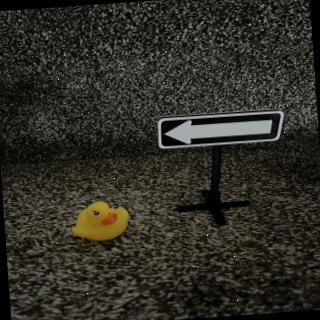duck_regular: (70, 201, 132, 245)
sign_oneway_left: (157, 109, 288, 155)
